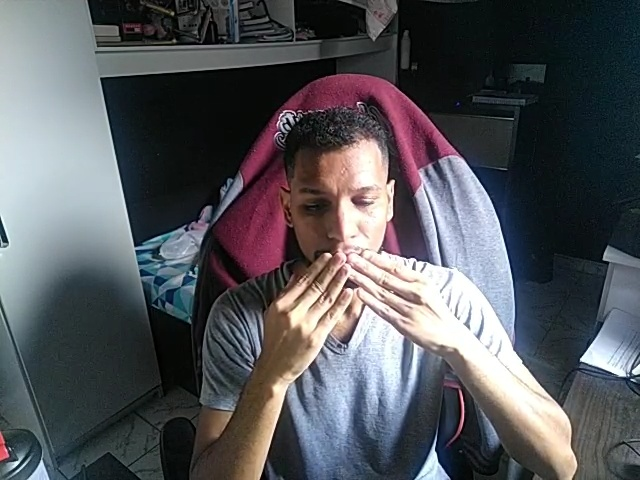obrigado: (259, 247, 452, 382)
